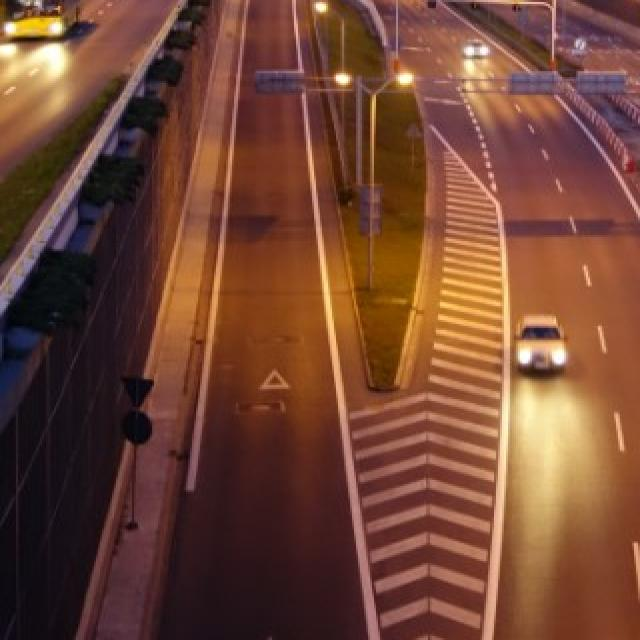bus: (0, 0, 84, 41)
car: (514, 312, 568, 375), (460, 38, 490, 59)
